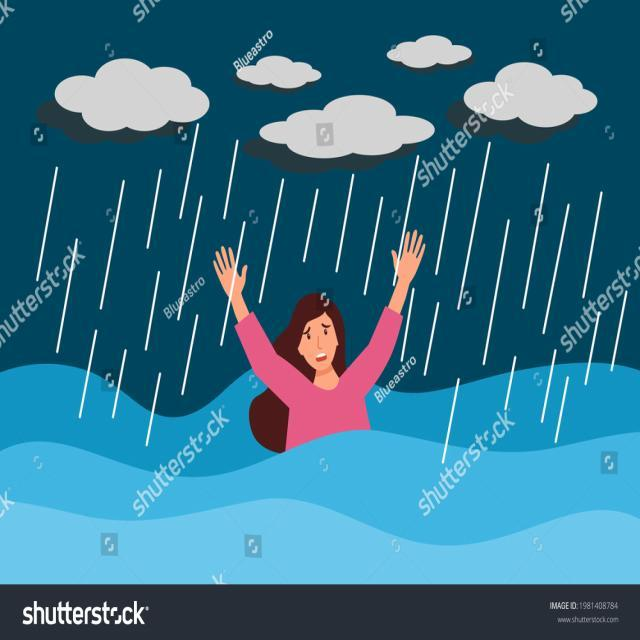Out of Water: (208, 235, 432, 466)
